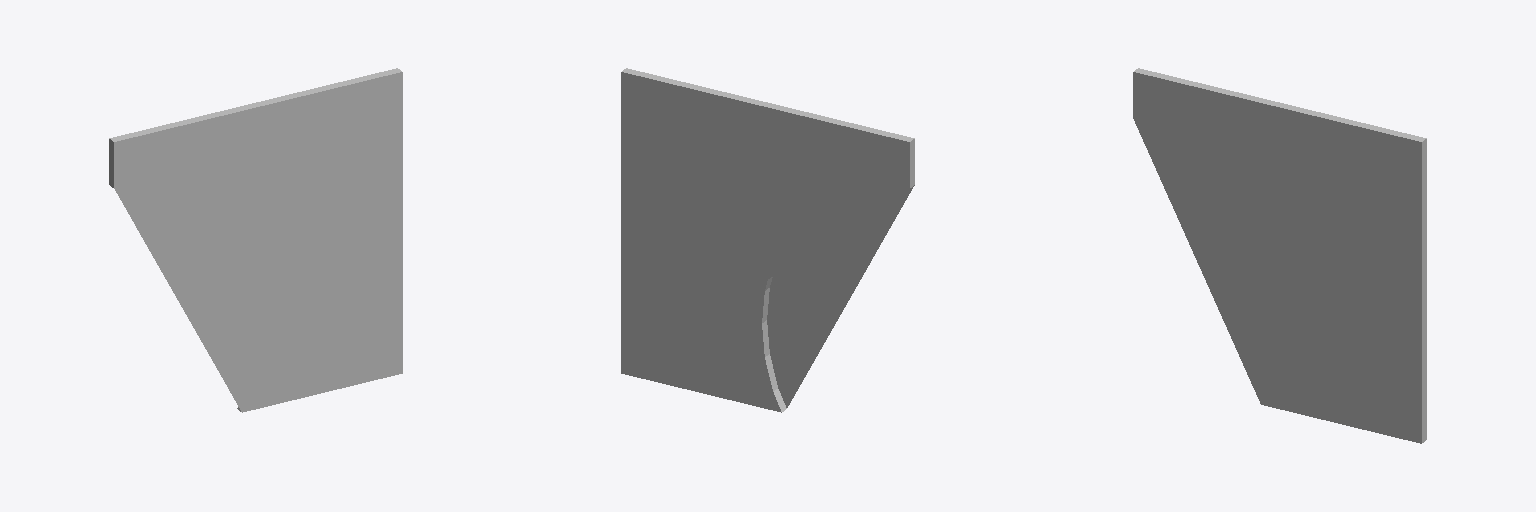
The model's file is door-wall2.obj.
3 renders of one model, left to right at view 1: azimuth 30°, elevation 25°; view 2: azimuth 150°, elevation 25°; view 3: azimuth 330°, elevation 25°, orthographic.
Visible parts, largest first — view 1: Cube_Cube.001; view 2: Cube_Cube.001; view 3: Cube_Cube.001.
Boxes of the visible parts, x1=… form: Cube_Cube.001: x1=109, y1=68, x2=402, y2=412; Cube_Cube.001: x1=621, y1=68, x2=914, y2=412; Cube_Cube.001: x1=1133, y1=68, x2=1426, y2=443.
Bounding box in the file's own units: 2 × 2 × 0.0612.